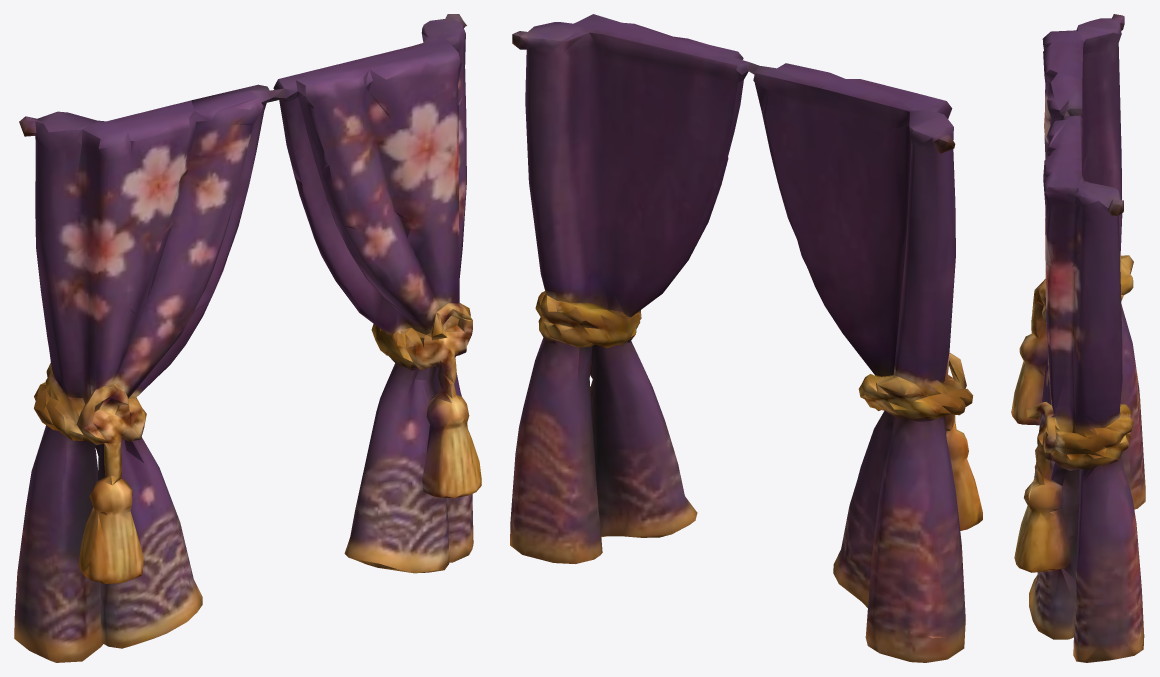
File: curtain14.glb
3 views of the same model, side by side, from view 1: azimuth 30°, elevation 25°; view 2: azimuth 150°, elevation 25°; view 3: azimuth 270°, elevation 25° (orthographic). The views are drawn at different scales.
Size of the model in its own units: 0.2373 by 0.2699 by 0.0694.
Materials: 1 (1 with a texture image).
